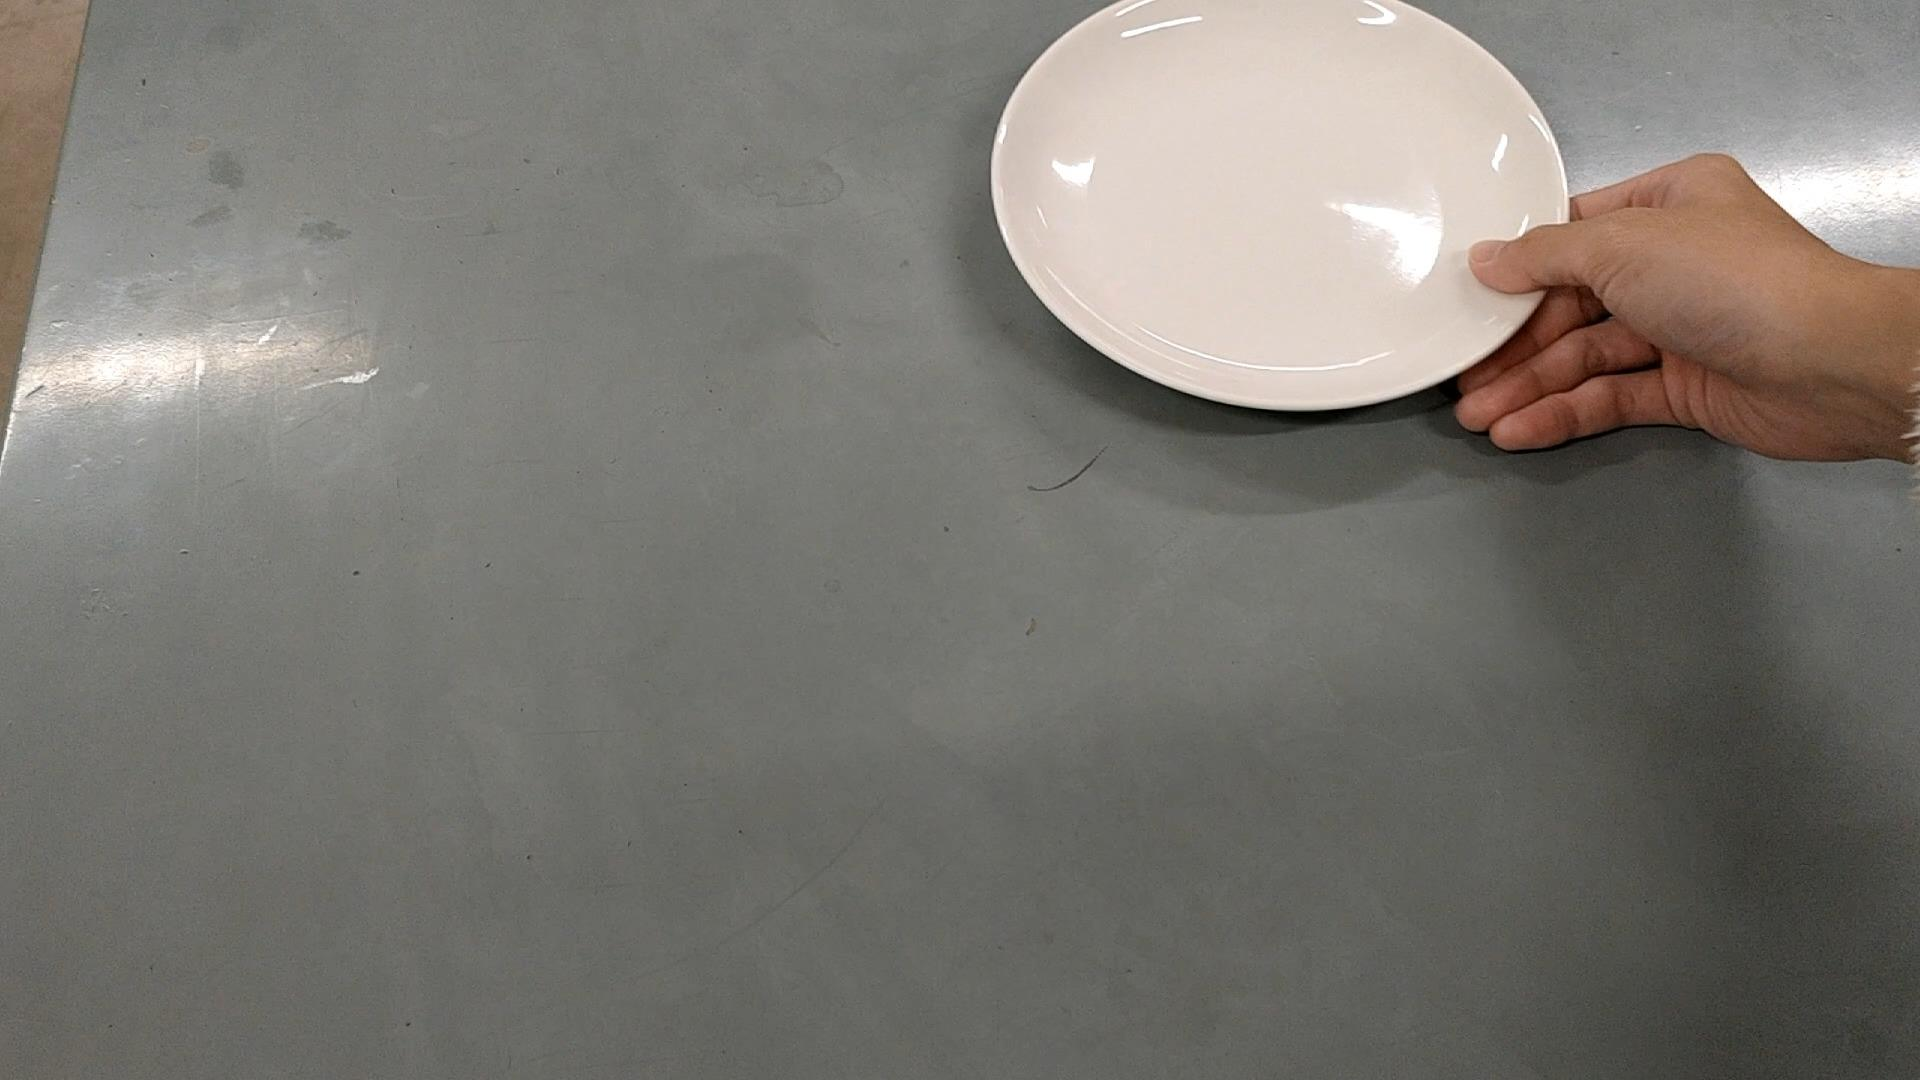plate: (990, 0, 1575, 417)
